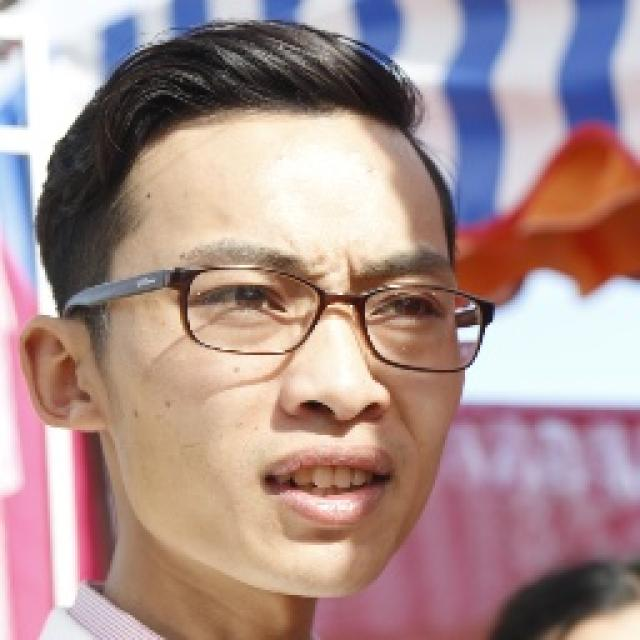earlobe: (74, 410, 107, 432)
eye: (211, 284, 282, 315), (374, 294, 446, 323)
nose: (281, 409, 391, 445)
wholeear: (20, 314, 108, 433)
